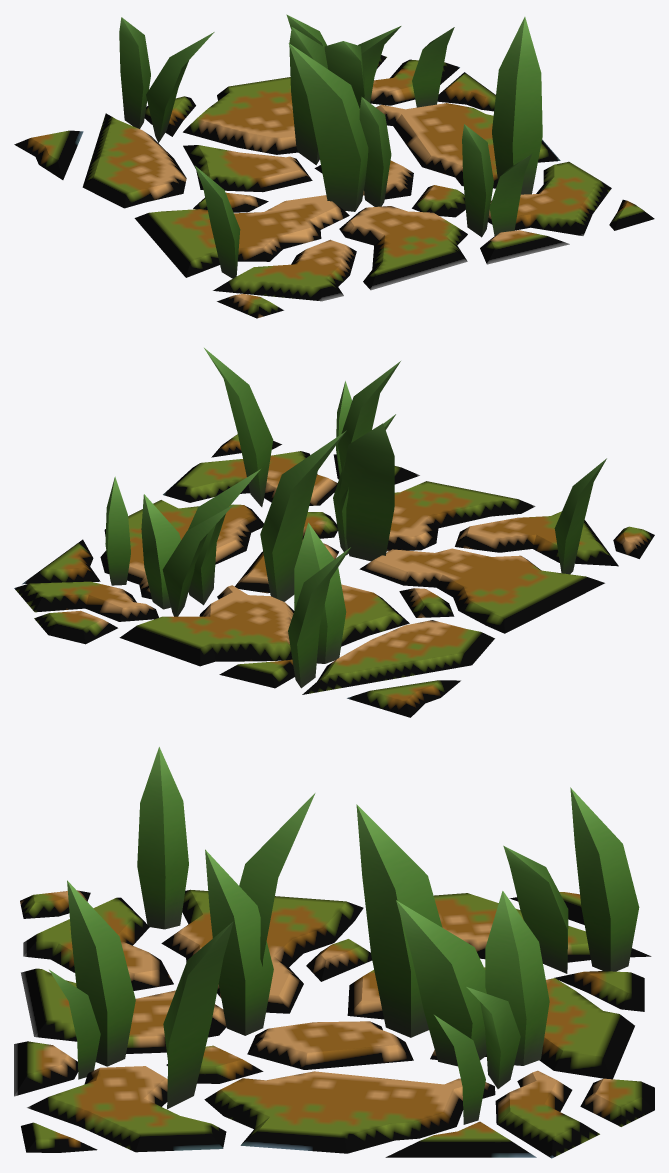
Rendered from deco_gravel_A_grass.FBX.
3 renders of one model, top to bottom at view 1: azimuth 30°, elevation 25°; view 2: azimuth 150°, elevation 25°; view 3: azimuth 270°, elevation 25°, orthographic. The views are drawn at different scales.
Visible parts, largest first — view 1: deco_gravel_A_grass; view 2: deco_gravel_A_grass; view 3: deco_gravel_A_grass.
Boxes of the visible parts, box(x1,y1,x2,y2) form: deco_gravel_A_grass: box(14, 14, 654, 318); deco_gravel_A_grass: box(14, 348, 654, 717); deco_gravel_A_grass: box(14, 747, 654, 1158).
Bounding box in the file's own units: 1.94 × 0.7095 × 1.98.
Materials: 1 (1 with a texture image).
